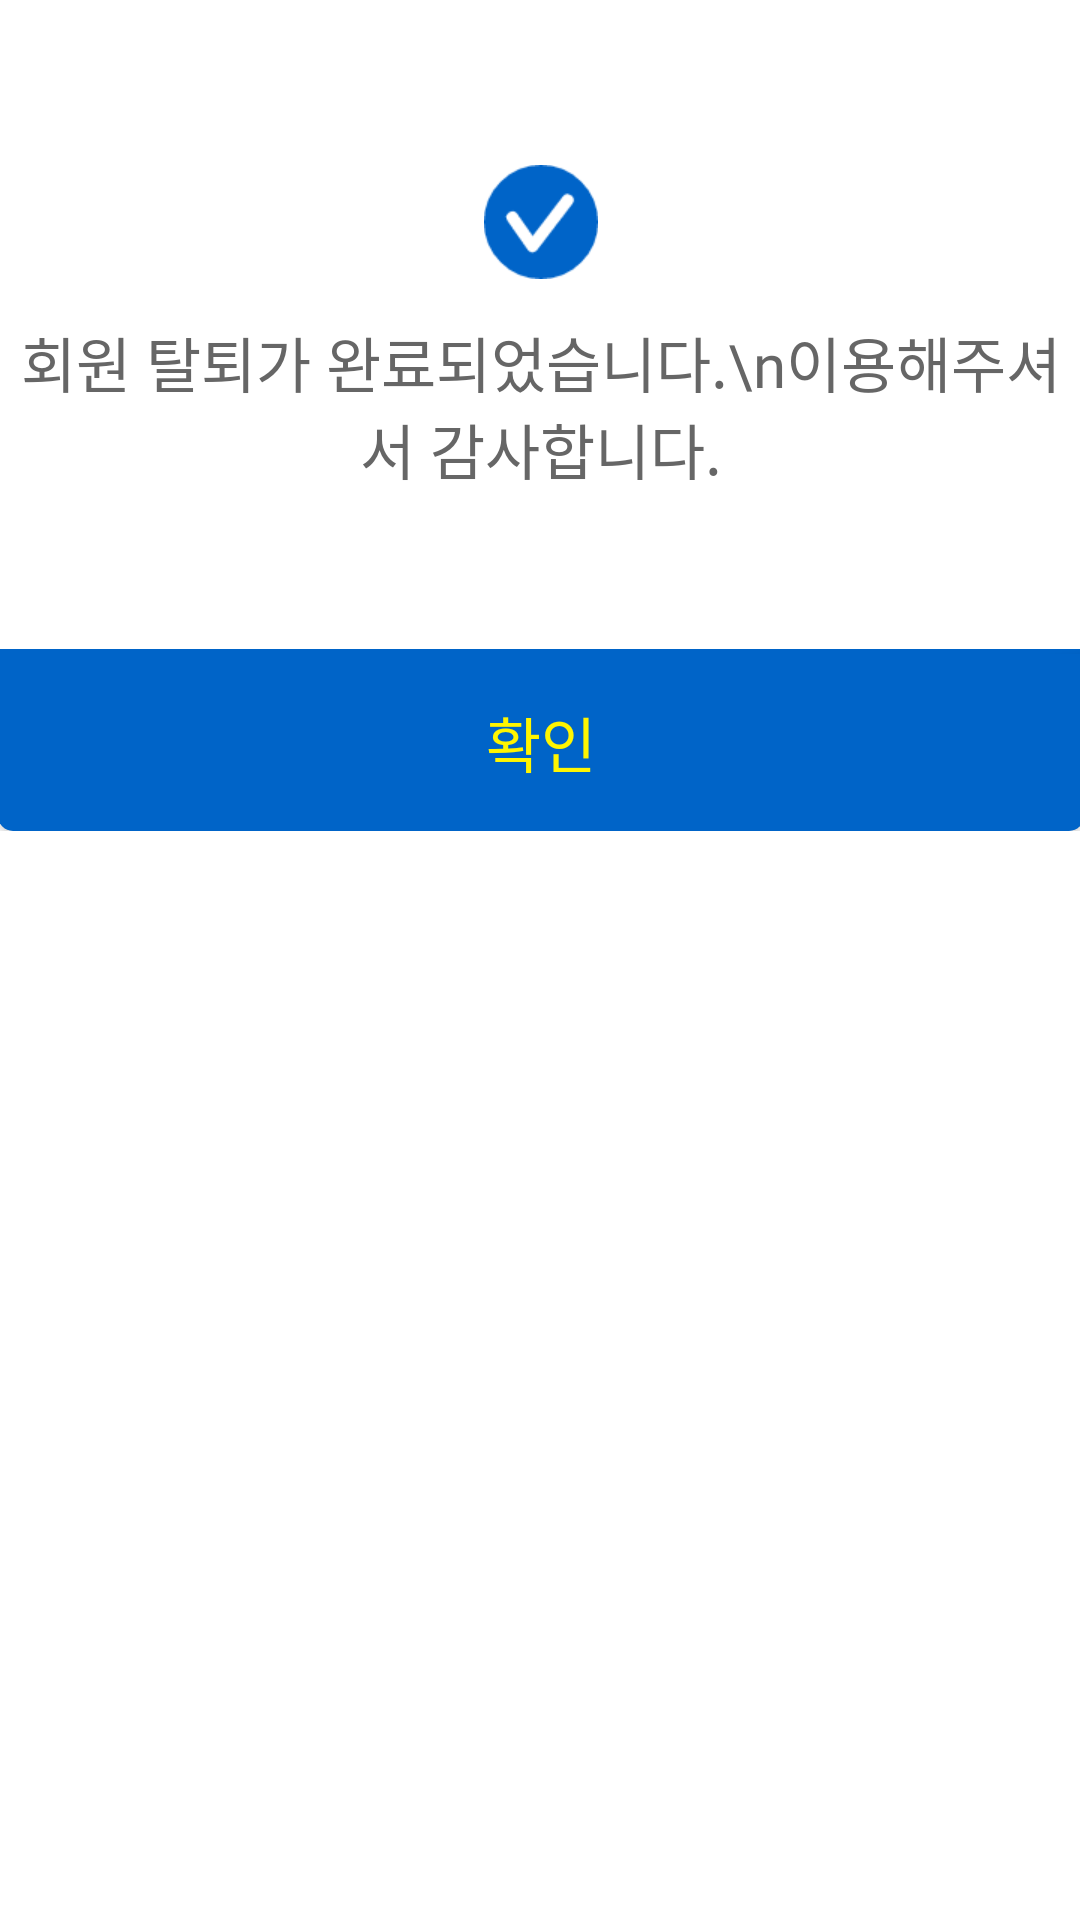

Icons on this 1080w x 1920h Android screen, each with its box as (left=x1, top=y1, right=x2, bottom=y2):
check: (left=484, top=165, right=598, bottom=279)
